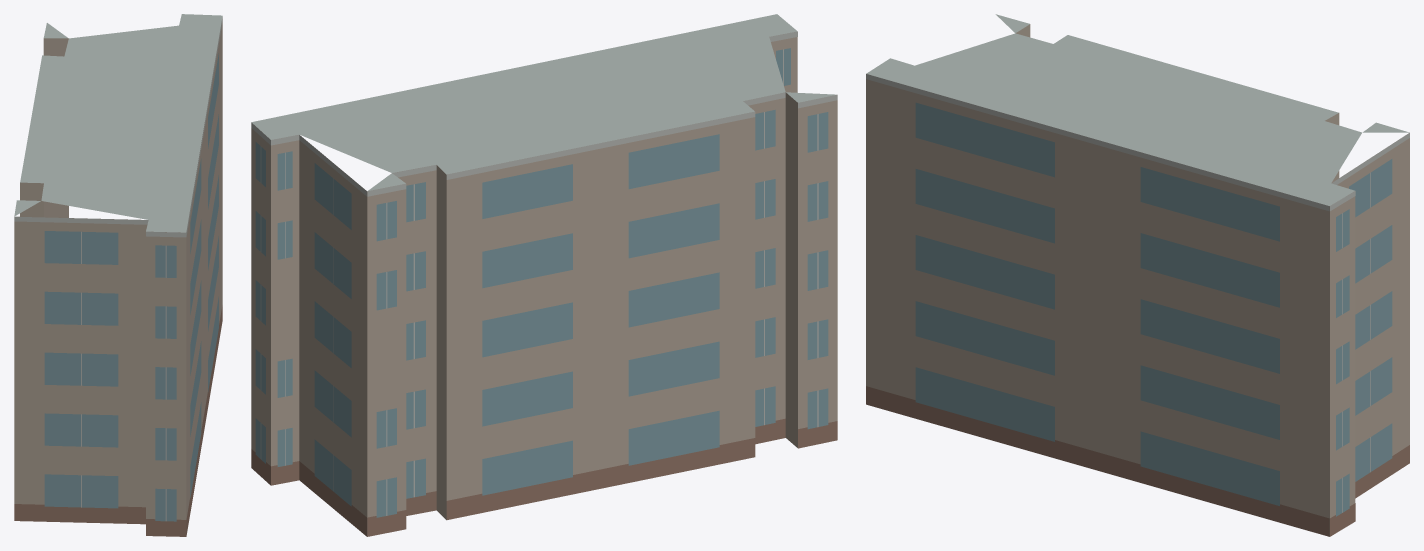
The model's file is survey-upis-32511550.glb.
3 views of the same model, side by side, from view 1: azimuth 30°, elevation 25°; view 2: azimuth 150°, elevation 25°; view 3: azimuth 270°, elevation 25° (orthographic). The views are drawn at different scales.
Parts seen in each view (by area): view 1: survey-upis-32511550.tmp; view 2: survey-upis-32511550.tmp; view 3: survey-upis-32511550.tmp.
Part boxes in pixels (<box>): survey-upis-32511550.tmp: <box>14,14,222,536</box>; survey-upis-32511550.tmp: <box>251,14,837,536</box>; survey-upis-32511550.tmp: <box>866,14,1409,536</box>.
Size of the model in its own units: 19.01 by 15.25 by 22.73.
